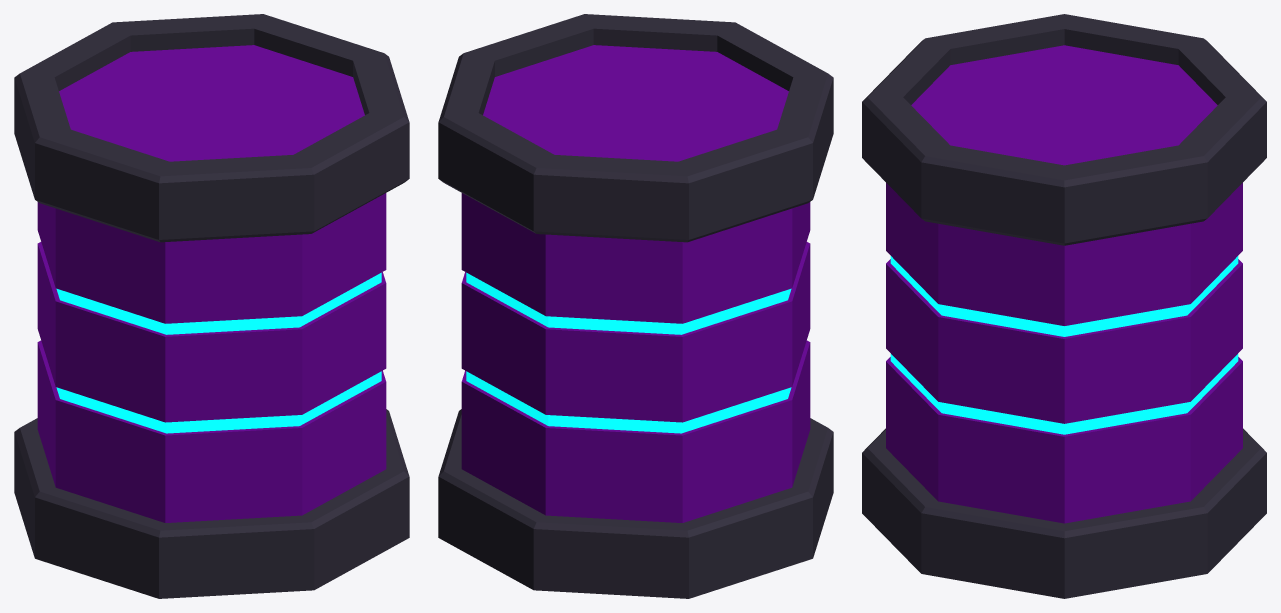
The model's file is SM_Tonneau_Carburant.fbx.
The picture shows the model from 3 angles, left to right: view 1: azimuth 30°, elevation 25°; view 2: azimuth 150°, elevation 25°; view 3: azimuth 270°, elevation 25°; orthographic projection.
Parts seen in each view (by area): view 1: Tonneau_Carburant; view 2: Tonneau_Carburant; view 3: Tonneau_Carburant.
Part boxes in pixels (x1,y1,x2,y2): Tonneau_Carburant: [14, 14, 409, 598]; Tonneau_Carburant: [438, 14, 833, 598]; Tonneau_Carburant: [862, 14, 1266, 598].
Size of the model in its own units: 79.34 by 89.98 by 79.34.
